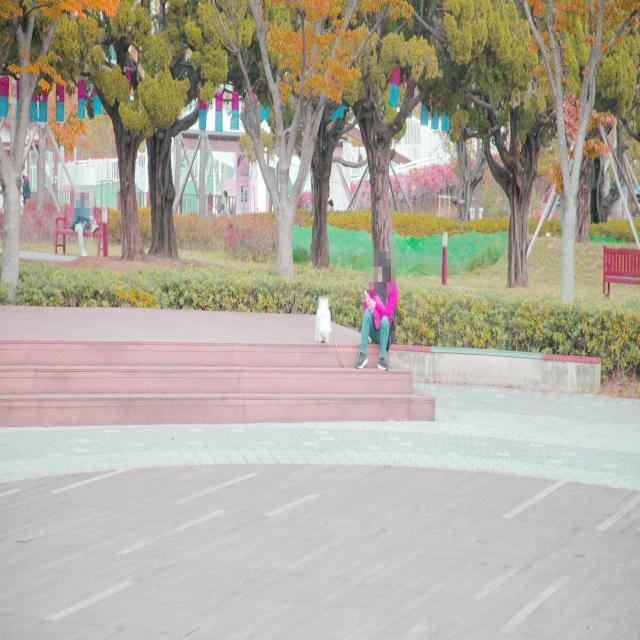Leashed_Dog: (313, 290, 376, 370)
